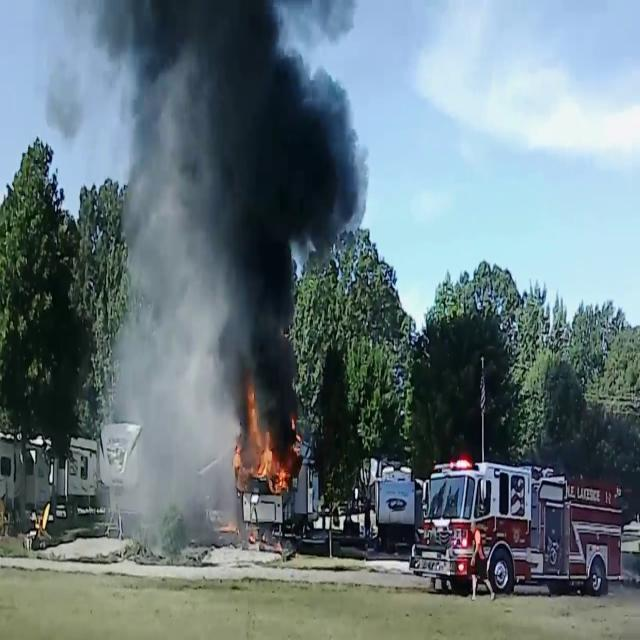Fire: (235, 385, 292, 499)
Smoke: (188, 1, 360, 429), (97, 6, 235, 538)
